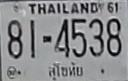1: (30, 20, 34, 58)
3: (88, 18, 103, 56)
4: (53, 18, 69, 57)
5: (71, 18, 86, 56)
8: (106, 17, 121, 56), (7, 19, 22, 58)
STI: (46, 62, 84, 81)
